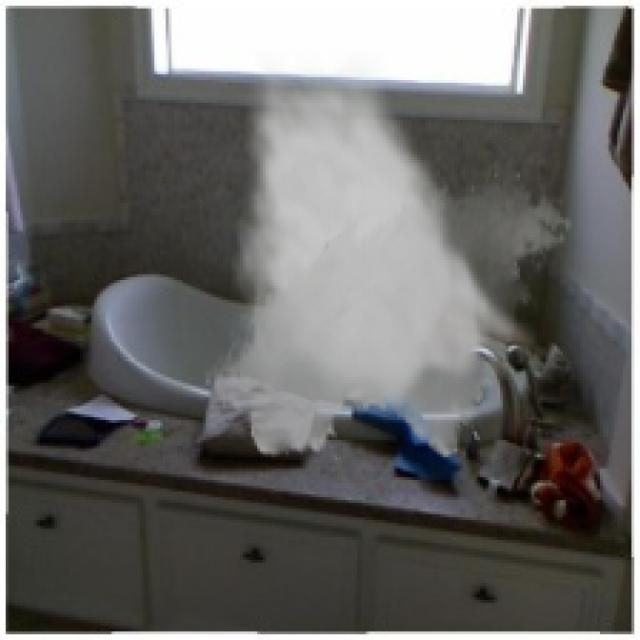smoke: (203, 51, 574, 468)
